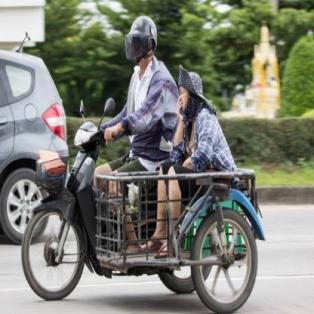Motocicleta: (28, 126, 95, 292)
